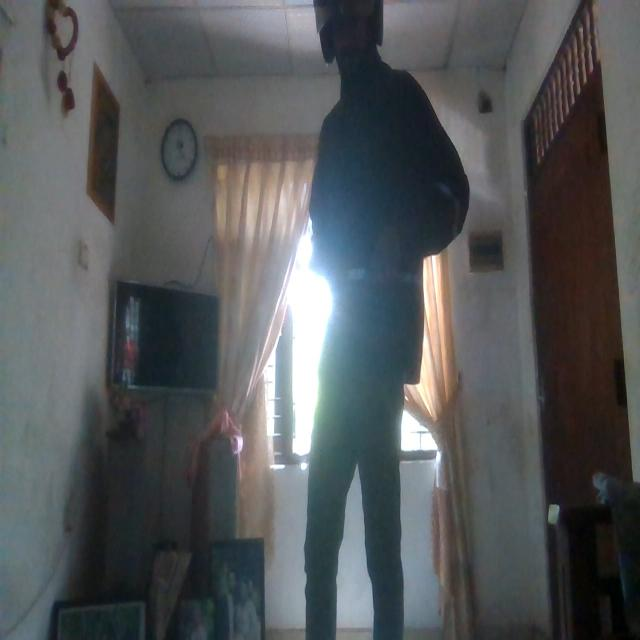Helmet_Wearer: (309, 0, 389, 79)
Jacket_Wearer: (305, 66, 473, 390)
Person: (290, 0, 470, 640)
